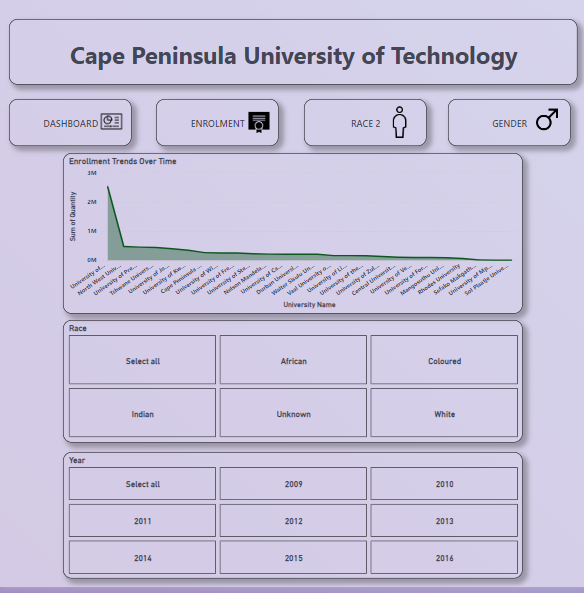

What the dashboard file says about the page in this screenshot:
{"tool":"powerbi","page":{"name":"Race 1","canvas":[1200,1200],"ordinal":2},"visuals":[{"type":"advancedSlicerVisual","fields":{"Values":["Race.Year"]},"box":[130,924,938,258],"z":0},{"type":"advancedSlicerVisual","fields":{"Values":["Race.Race"]},"box":[130,656,938,250],"z":1000},{"type":"stackedAreaChart","title":"Enrollment Trends Over Time","fields":{"Category":["Race.University Name "],"Y":["Sum(Race.Quantity)"]},"box":[130,314,938,328],"z":2000},{"type":"cardVisual","fields":{"Data":["Min(Enrolments.University Name)"]},"box":[20,40,1160,134],"z":3000},{"type":"actionButton","box":[916,204,250,96],"z":4000},{"type":"actionButton","box":[20,204,250,96],"z":5000},{"type":"actionButton","box":[622,204,250,96],"z":6000},{"type":"actionButton","box":[320,204,250,96],"z":7000},{"type":"image","box":[201.7,223.3,55,55],"z":7001},{"type":"image","box":[503.3,220,53.3,63.3],"z":7002},{"type":"image","box":[778.3,208.3,80,86.7],"z":7003},{"type":"image","box":[1085,215,65,63.3],"z":7004}]}

Visuals, with their boxes in screenshot pixels (x1, y1, x2, y2), scaled from the page's 1200x1200 canvas onto the 584x593 screenshot:
advancedSlicerVisual - Race.Year: 63 457 520 584
advancedSlicerVisual - Race.Race: 63 324 520 448
"Enrollment Trends Over Time" stackedAreaChart: 63 155 520 317
cardVisual - Min(Enrolments.University Name): 10 20 574 86
actionButton: 446 101 567 148
actionButton: 10 101 131 148
actionButton: 303 101 424 148
actionButton: 156 101 277 148
image: 98 110 125 138
image: 245 109 271 140
image: 379 103 418 146
image: 528 106 560 138
